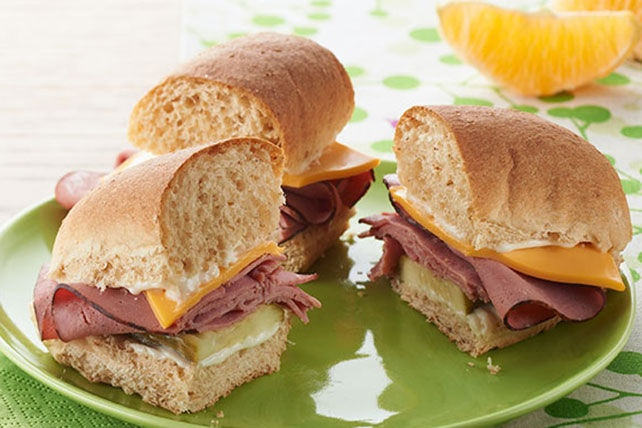background: (32, 18, 382, 278), (278, 68, 634, 239), (211, 0, 642, 66)
